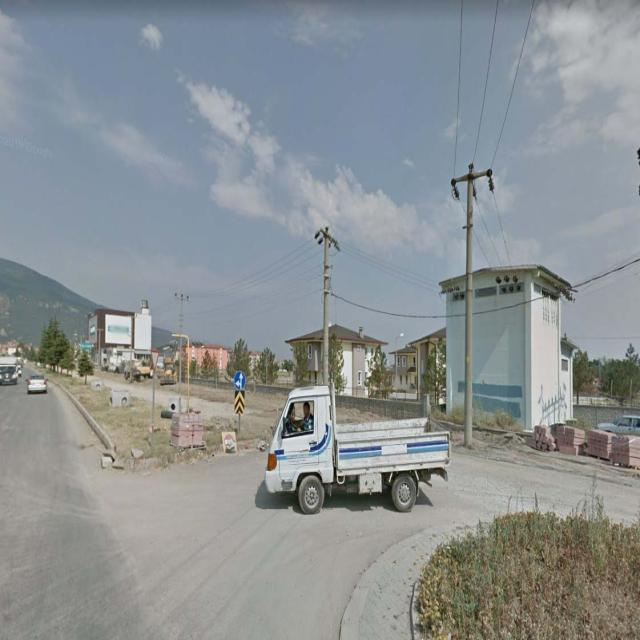ilerisol: (234, 371, 246, 390)
